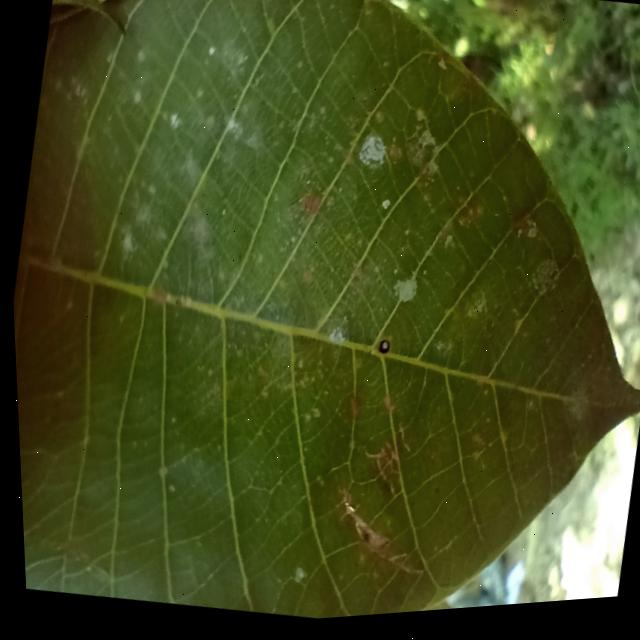Colletotrichum: (372, 344, 387, 361)
